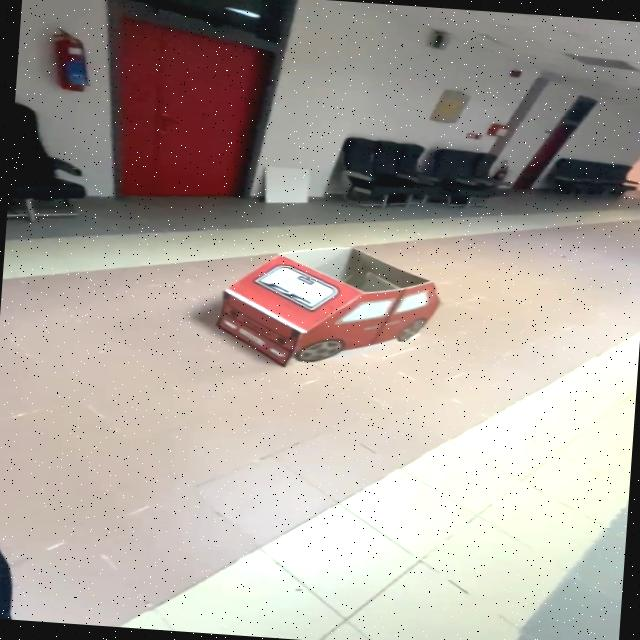red_car: (194, 226, 463, 397)
